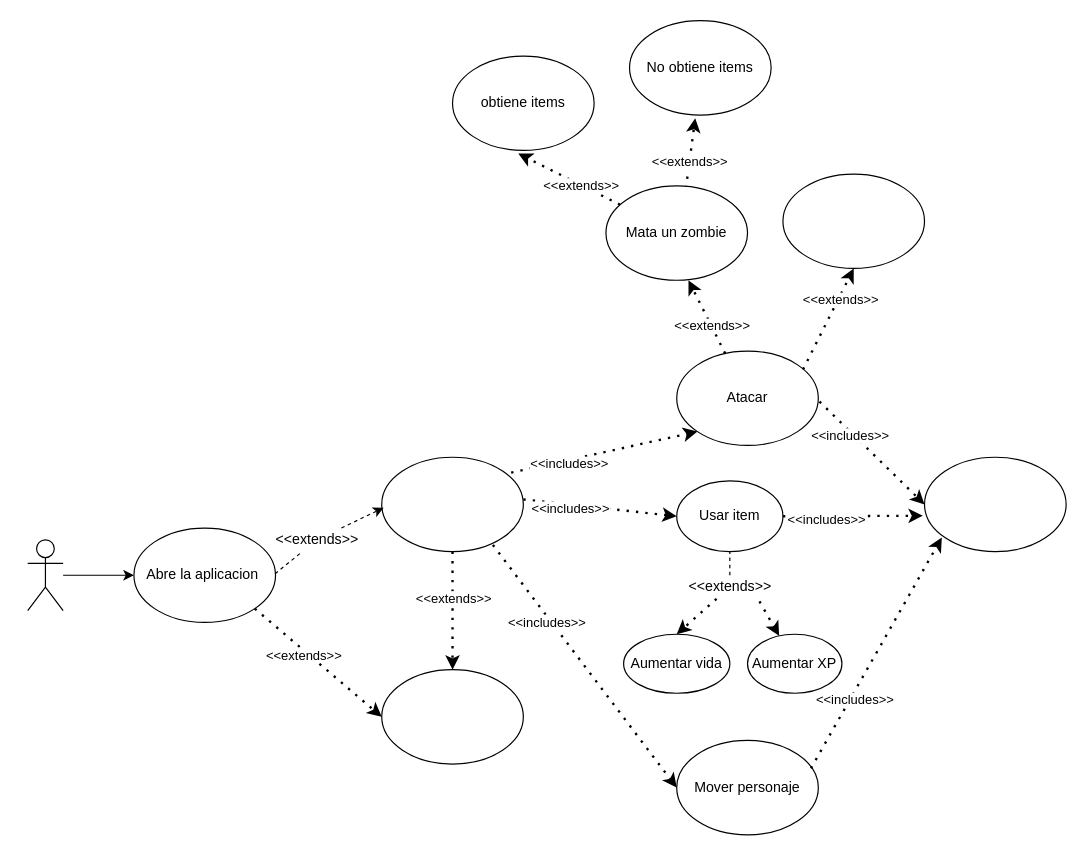
Some shapes in this 1087 by 855 pixel diagram are drawn without their labels. Here are the shapes that lost their labels. From the top down, the centre of each, then its label:
the point at 853,220: Objetivo fuera de alcance
the point at 452,504: Selecciona Un jugador
the point at 994,504: Gastar una accion
the point at 45,575: Jugador
the point at 452,716: Saltar turno
